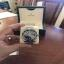watch: (20, 28, 39, 45)
